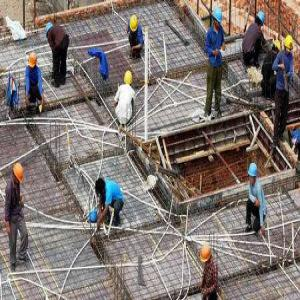blue: (212, 7, 224, 28), (248, 162, 258, 187), (256, 12, 266, 29), (46, 21, 54, 40)
none: (95, 175, 107, 198)
yellow: (13, 162, 26, 187), (201, 243, 213, 267), (284, 35, 295, 58), (129, 14, 139, 34), (124, 69, 134, 89), (28, 51, 38, 70), (273, 39, 281, 58)
